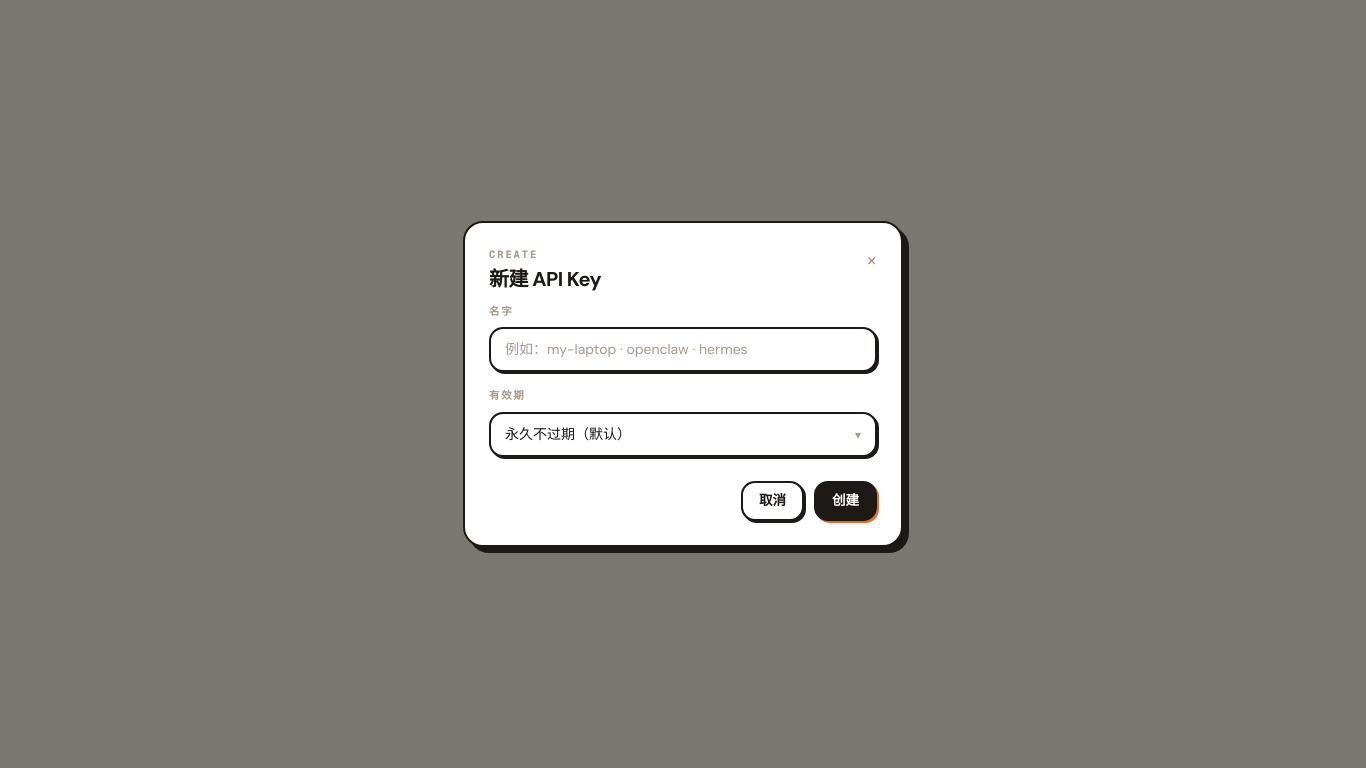
Test: CreateKeyModal — expiresInDays select › clicking outside the open dropdown closes it without changing the value
# Open it.
Click the button named "有效期": (568, 434) [489, 412, 877, 457]
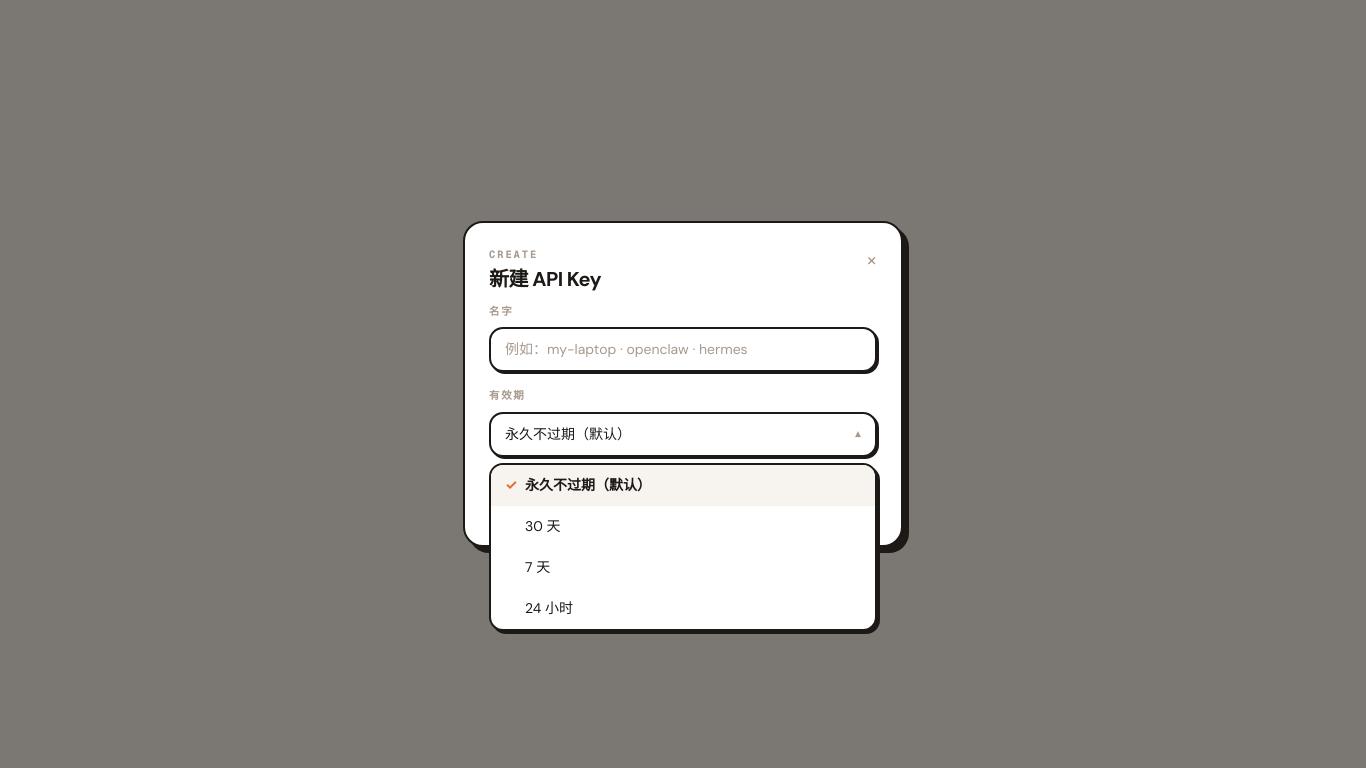
Check: the list is shown, box [489, 463, 877, 631]
Press the mouse on the heading "新建 API Key": (545, 279) [489, 266, 601, 292]
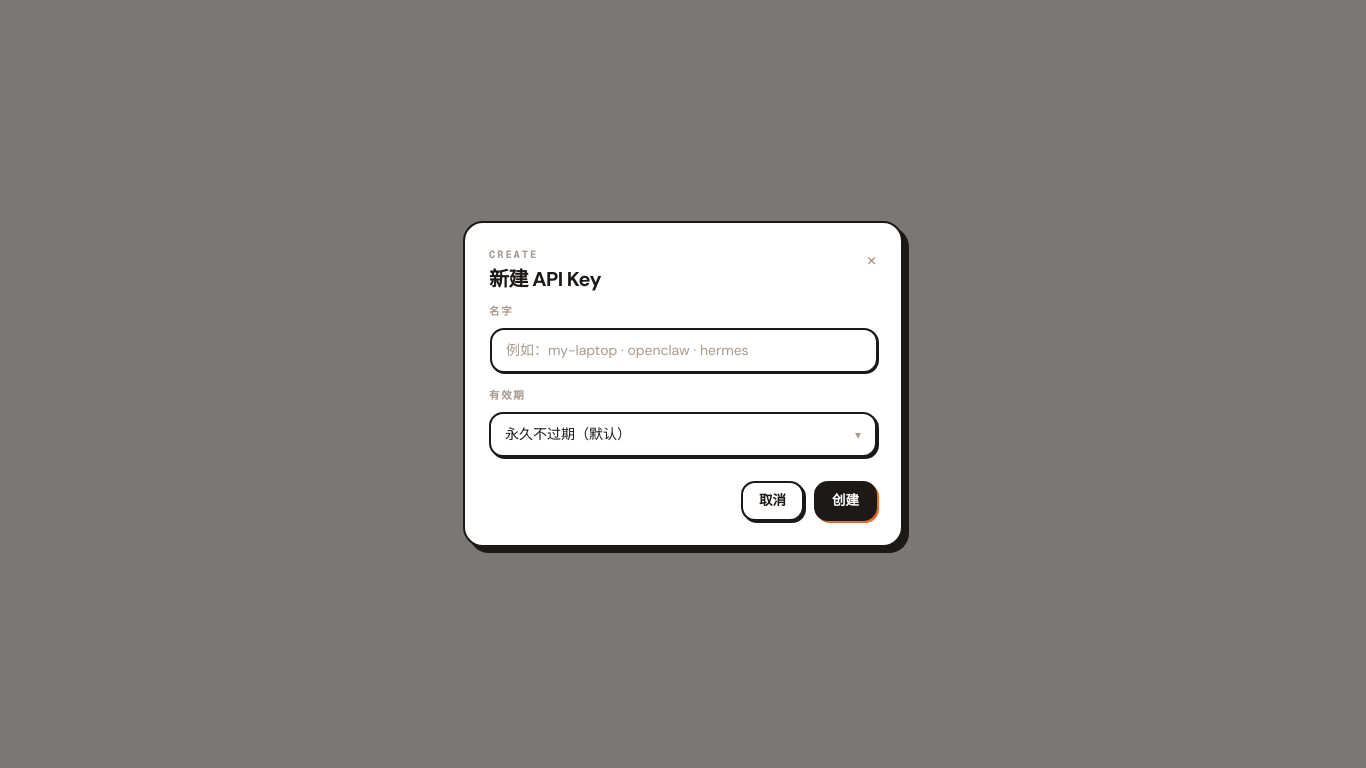
Check: the button named "有效期" shows "永久不过期", box [489, 412, 877, 457]
Check: the list is gone
